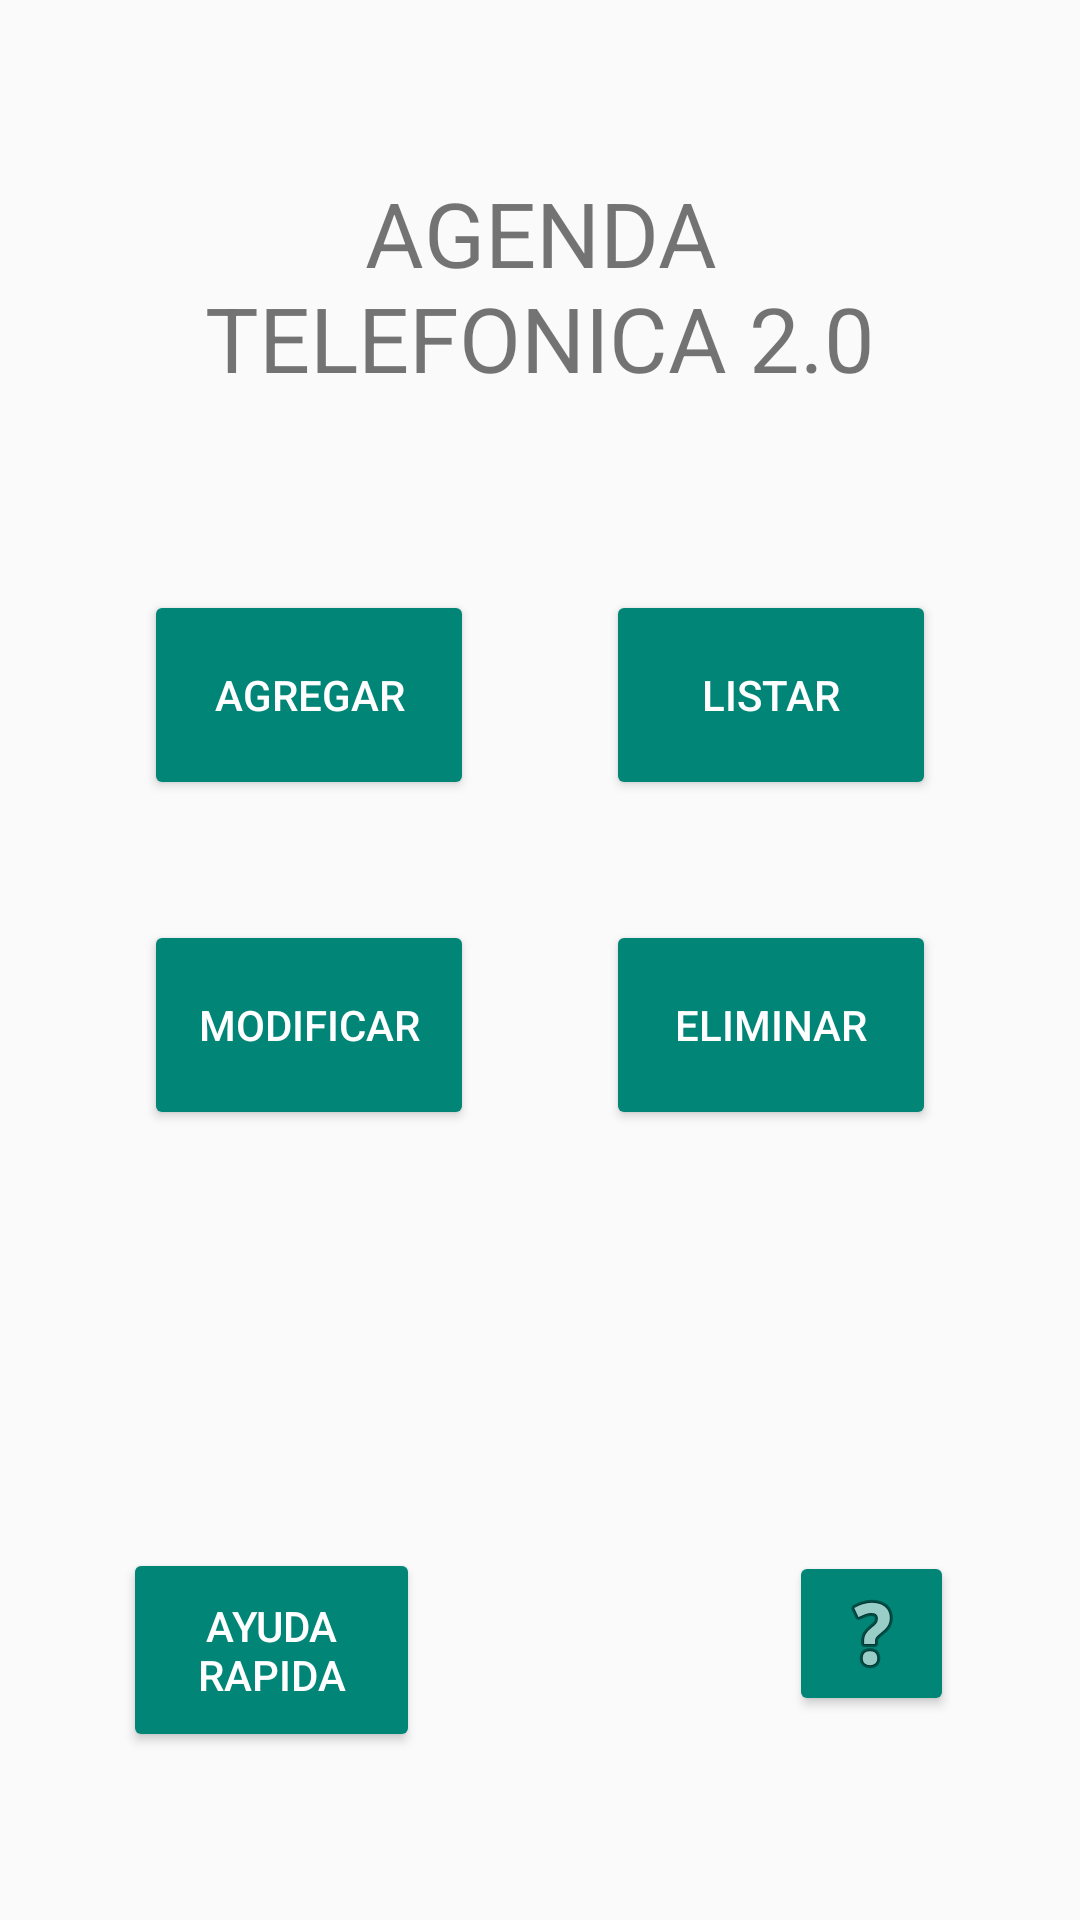

Locate icon controls on the screen. Image size 1080 × 1920, boxes as [x1, y1, x2, y2].
help: [801, 1569, 943, 1703]
